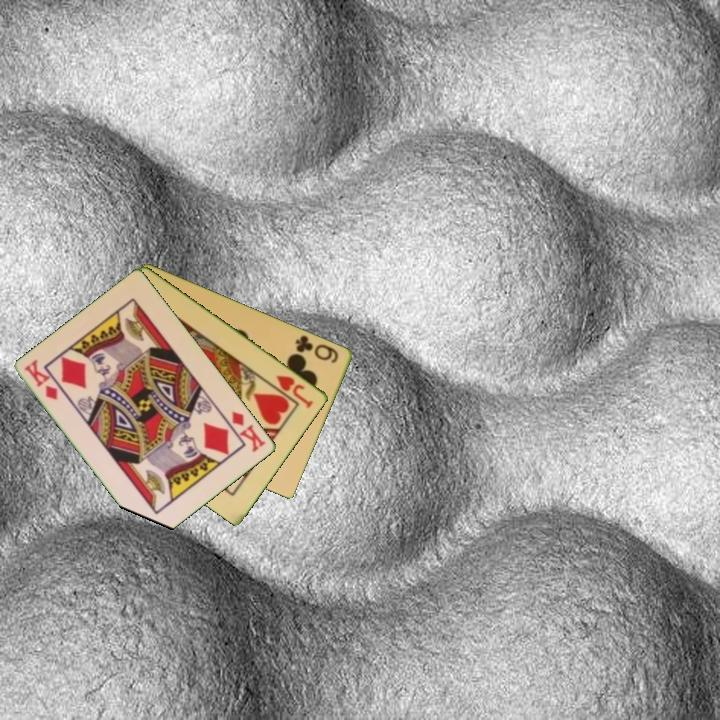6c: (292, 331, 342, 366)
Jh: (273, 371, 317, 411)
Kd: (228, 407, 269, 455), (21, 356, 61, 403)
